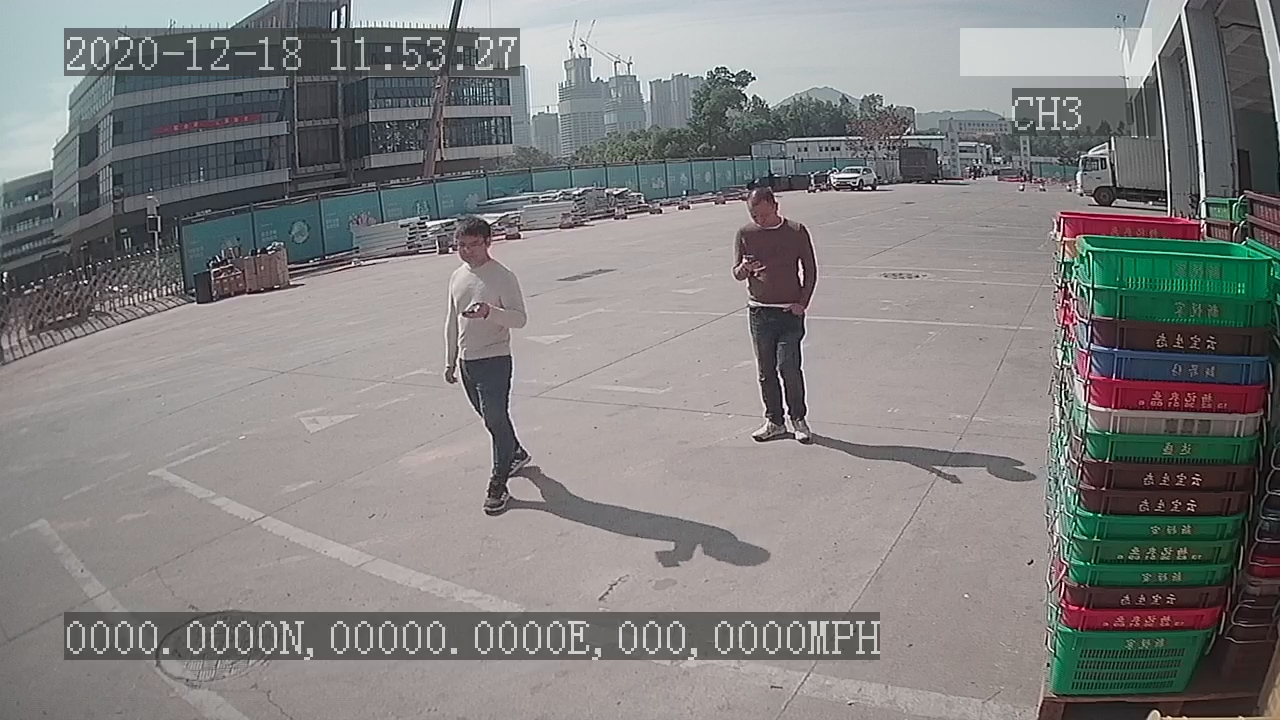person: (431, 204, 538, 520), (731, 181, 820, 451)
